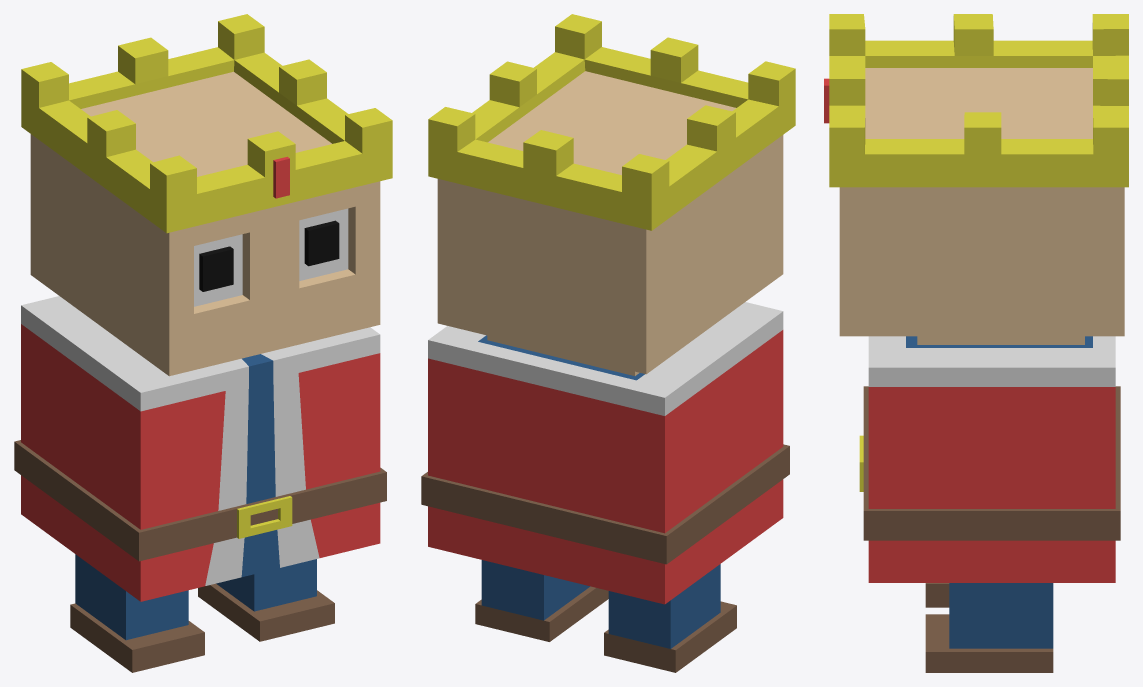
File: Player_King_Stade1.fbx
The picture shows the model from 3 angles, left to right: view 1: azimuth 30°, elevation 25°; view 2: azimuth 150°, elevation 25°; view 3: azimuth 270°, elevation 25°; orthographic projection. The views are drawn at different scales.
Parts seen in each view (by area): view 1: Player_King_Stade1; view 2: Player_King_Stade1; view 3: Player_King_Stade1.
Part boxes in pixels (<box>): Player_King_Stade1: <box>14,14,392,672</box>; Player_King_Stade1: <box>421,14,795,672</box>; Player_King_Stade1: <box>824,14,1128,672</box>.
Size of the model in its own units: 79.28 by 163 by 81.94.
